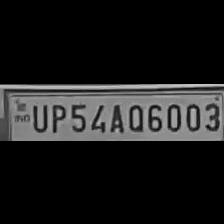0: (164, 100, 182, 132), (183, 99, 201, 131)
3: (202, 99, 220, 131)
4: (88, 100, 106, 132)
5: (66, 100, 86, 132)
6: (144, 100, 162, 132)
A: (106, 100, 124, 134)
P: (47, 100, 65, 134)
Q: (126, 100, 144, 132)
U: (29, 100, 47, 132)
